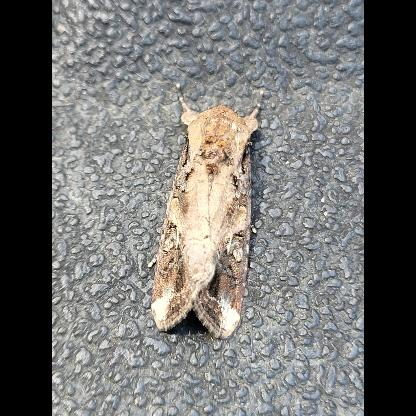Fall Armyworm Moth: (148, 79, 266, 343)
